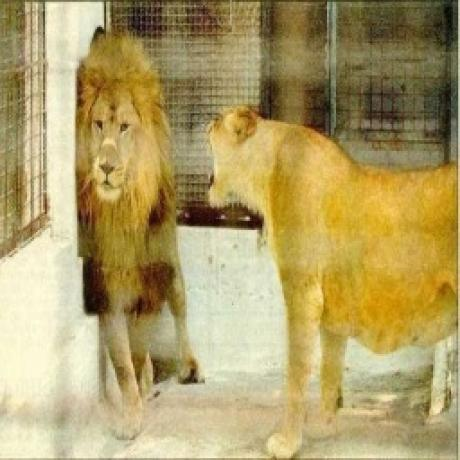Lion: (202, 105, 460, 460), (74, 29, 204, 436)
